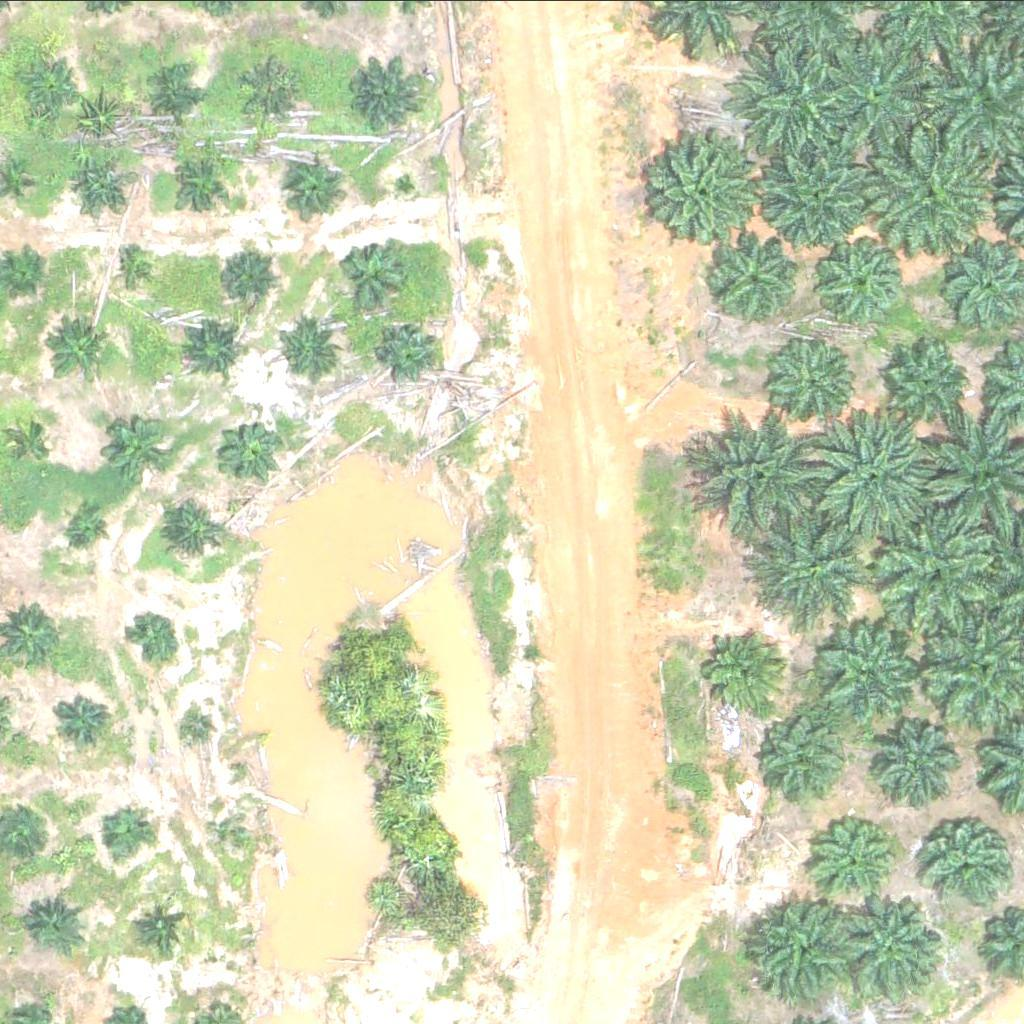Kelapa_Sawit: (817, 29, 943, 154), (737, 35, 863, 160), (757, 131, 883, 256), (690, 409, 816, 534), (811, 414, 937, 539), (746, 500, 872, 625), (871, 505, 997, 630), (868, 120, 993, 245), (643, 138, 757, 251), (818, 618, 919, 718), (842, 895, 943, 995), (749, 899, 850, 999), (759, 331, 859, 431), (759, 708, 847, 796), (814, 815, 902, 903), (927, 818, 1015, 906), (815, 232, 903, 319), (716, 233, 804, 320), (888, 339, 976, 426), (702, 629, 790, 716), (878, 715, 966, 802), (348, 57, 424, 132), (335, 243, 411, 318), (65, 156, 128, 219), (106, 419, 169, 482), (29, 894, 92, 957), (283, 322, 346, 385), (215, 423, 278, 486), (284, 155, 347, 218), (380, 323, 443, 386), (47, 321, 110, 383), (243, 57, 306, 119), (160, 501, 223, 563), (185, 316, 247, 378), (213, 249, 275, 311), (30, 63, 81, 113), (96, 809, 147, 859), (139, 902, 190, 952), (152, 68, 202, 118), (62, 694, 112, 744), (129, 613, 179, 663), (175, 164, 225, 214), (9, 417, 59, 467), (66, 502, 116, 552), (121, 244, 159, 282), (182, 713, 207, 738), (216, 808, 241, 833)
